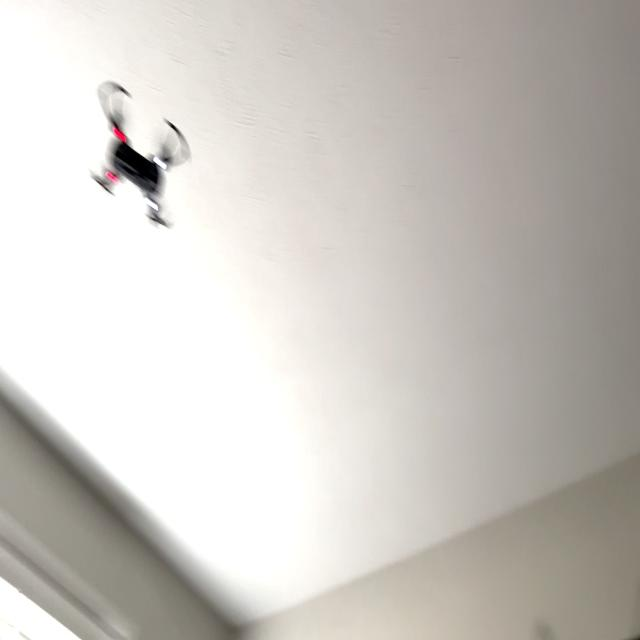drone: (68, 66, 202, 244)
